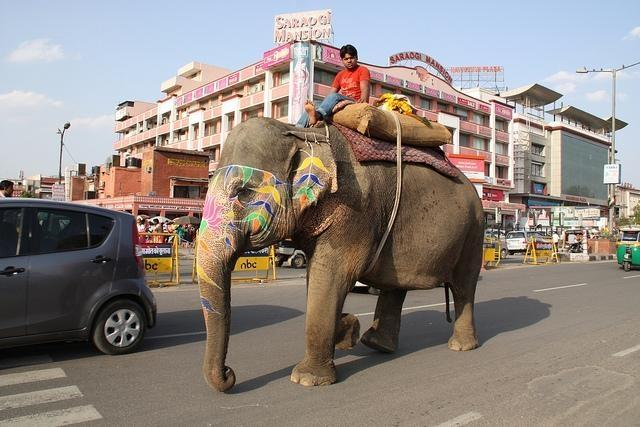car: (2, 199, 157, 356), (484, 231, 509, 260), (506, 230, 528, 254)
motorcycle: (566, 239, 589, 253)
